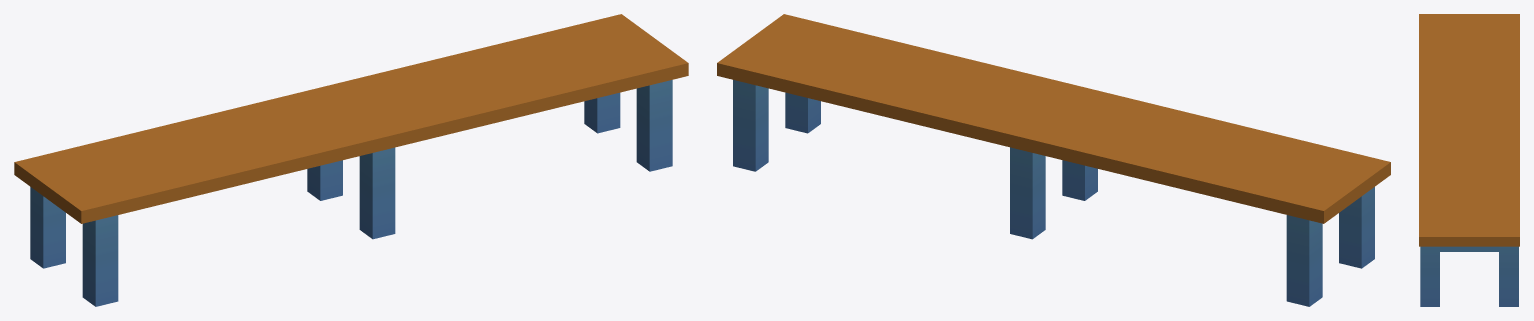
Rendered from Bench_1_B_7.fbx.
3 renders of one model, left to right at view 1: azimuth 30°, elevation 25°; view 2: azimuth 150°, elevation 25°; view 3: azimuth 270°, elevation 25°, orthographic. The views are drawn at different scales.
Parts seen in each view (by area): view 1: Bench_1_B_7; view 2: Bench_1_B_7; view 3: Bench_1_B_7.
Part boxes in pixels (x1,y1,x2,y2): Bench_1_B_7: (14,14,688,306); Bench_1_B_7: (717,14,1390,306); Bench_1_B_7: (1419,14,1519,306).
Size of the model in its own units: 213 by 33.54 by 40.68.
